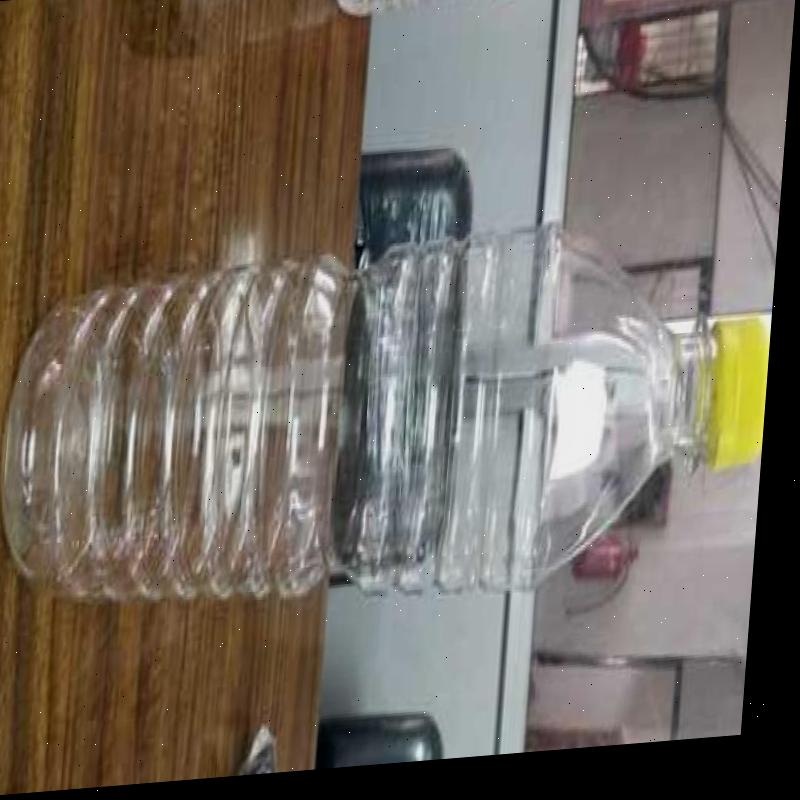botella: (0, 221, 784, 631), (330, 0, 604, 25)
